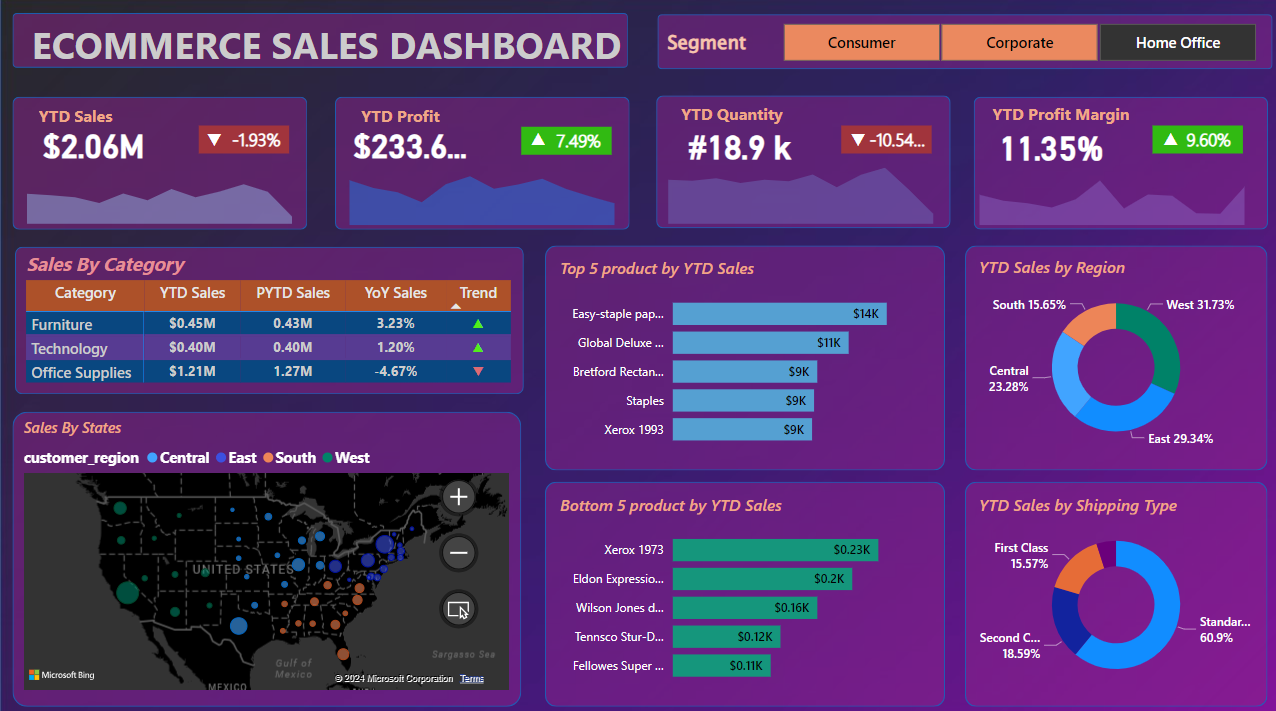

Layout of this report page (visuals, bound fields, positions):
{"tool":"powerbi","page":{"name":"Page 1","canvas":[1280,720],"ordinal":0},"visuals":[{"type":"shape","box":[12.3,15.1,615.6,54.8],"z":0},{"type":"textbox","box":[12.1,15.7,628.3,69.9],"z":1000},{"type":"shape","box":[12.3,98.7,294.8,133],"z":2000},{"type":"card","fields":{"Values":["ecommerce_data.YTD Sales"]},"box":[25.3,126.6,137.5,39.8],"z":3000},{"type":"areaChart","fields":{"Category":["Calendar.Month"],"Y":["Sum(ecommerce_data.sales_per_order)"]},"box":[12.1,155.6,294.3,76],"z":4000},{"type":"shape","box":[199,127.8,90.5,27.7],"z":5000},{"type":"card","fields":{"Values":["ecommerce_data.Sales Icon"]},"box":[190.6,127.8,49.4,32.6],"z":6000},{"type":"card","fields":{"Values":["ecommerce_data.YoY Sales"]},"box":[221.9,129,67.5,26.5],"z":7000},{"type":"textbox","box":[33.8,101.3,94.1,41],"z":8000},{"type":"shape","box":[334.9,99.1,294.8,133],"z":9000},{"type":"card","fields":{"Values":["ecommerce_data.YTD Profit"]},"box":[341.3,126.6,137.5,39.8],"z":10000},{"type":"areaChart","fields":{"Category":["Calendar.Month"],"Y":["Sum(ecommerce_data.profit_per_order)"]},"box":[334.7,155.9,294.3,76],"z":11000},{"type":"shape","box":[521.6,128.2,90.5,27.7],"z":12000},{"type":"card","fields":{"Values":["ecommerce_data.Profit Icon"]},"box":[513.8,126.6,49.4,32.6],"z":13000},{"type":"card","fields":{"Values":["ecommerce_data.YoY Profit"]},"box":[544.5,129.4,67.5,26.5],"z":14000},{"type":"textbox","box":[356.2,101.2,111.2,41.2],"z":15000},{"type":"shape","box":[656.1,97.7,294.3,132.7],"z":16000},{"type":"card","fields":{"Values":["ecommerce_data.YTD Concatenated Qty"]},"box":[671.8,127.8,137.5,39.8],"z":17000},{"type":"areaChart","fields":{"Category":["Calendar.Month"],"Y":["Sum(ecommerce_data.order_quantity)"]},"box":[654.4,155.3,294.3,76],"z":18000},{"type":"shape","box":[841.3,127.6,90.5,27.7],"z":19000},{"type":"card","fields":{"Values":["ecommerce_data.Qty Icon"]},"box":[833.4,127.8,49.4,32.6],"z":20000},{"type":"card","fields":{"Values":["ecommerce_data.YoY Qty"]},"box":[864.2,128.8,67.5,26.5],"z":21000},{"type":"textbox","box":[676.6,100.1,126.6,41],"z":22000},{"type":"shape","box":[973.1,99.2,294.3,132.7],"z":23000},{"type":"card","fields":{"Values":["ecommerce_data.YTD Profit Margin"]},"box":[982.8,128.2,137.5,39.8],"z":24000},{"type":"areaChart","fields":{"Category":["Calendar.Month"],"Y":["ecommerce_data.Profit Margin"]},"box":[965.4,155.7,294.3,76],"z":25000},{"type":"shape","box":[1152.3,127.9,90.5,27.7],"z":26000},{"type":"card","fields":{"Values":["ecommerce_data.Profit Margin Icon"]},"box":[1145.7,126.6,49.4,32.6],"z":27000},{"type":"card","fields":{"Values":["ecommerce_data.YoY Profit Margin"]},"box":[1175.2,129.1,67.5,26.5],"z":28000},{"type":"textbox","box":[987.7,100.1,164,41],"z":29000},{"type":"shape","box":[15,248.5,508.8,147.5],"z":30000},{"type":"pivotTable","title":"Sales By Category","fields":{"Rows":["ecommerce_data.category_name"],"Values":["ecommerce_data.YTD Sales","ecommerce_data.PYTD Sales","ecommerce_data.YoY Sales","ecommerce_data.Sales Icon"]},"box":[21.3,252.2,495,143.8],"z":31000},{"type":"shape","box":[12.5,413.8,508.8,295],"z":32000},{"type":"map","title":"Sales By States","fields":{"Y":["us_state_long_lat_codes.latitude"],"X":["us_state_long_lat_codes.longitude"],"Size":["ecommerce_data.YTD Sales"],"Series":["ecommerce_data.customer_region"]},"box":[18.8,418.8,495,277.5],"z":33000},{"type":"shape","box":[545,247.5,400,225],"z":34000},{"type":"shape","box":[545,483.8,400,225],"z":35000},{"type":"barChart","title":"Top 5 product by YTD  Sales","fields":{"Category":["ecommerce_data.product_name"],"Y":["ecommerce_data.YTD Sales"]},"box":[555,258.8,376.2,201.2],"z":36000},{"type":"barChart","title":"Bottom 5 product by YTD  Sales","fields":{"Category":["ecommerce_data.product_name"],"Y":["ecommerce_data.YTD Sales"]},"box":[555,495,376.2,201.2],"z":37000},{"type":"shape","box":[965,247.5,302.5,225],"z":38000},{"type":"shape","box":[965,483.8,302.5,225],"z":39000},{"type":"donutChart","title":"YTD Sales by Region","fields":{"Category":["ecommerce_data.customer_region"],"Y":["ecommerce_data.YTD Sales"]},"box":[973.8,257.5,285,202.5],"z":40000},{"type":"donutChart","title":"YTD Sales by Shipping Type","fields":{"Y":["ecommerce_data.YTD Sales"],"Category":["ecommerce_data.shipping_type"]},"box":[973.8,495,285,202.5],"z":41000},{"type":"shape","box":[657.5,16.2,615,55],"z":42000},{"type":"slicer","fields":{"Values":["ecommerce_data.customer_segment"]},"box":[757.5,18.8,522.5,51.2],"z":43000},{"type":"textbox","box":[662.5,25,100,41.2],"z":44000}]}

Visuals, with their boxes in screenshot pixels (x1, y1, x2, y2), scaled from the page's 1280x720 canvas onto the 1276x711 screenshot:
shape: pyautogui.locateOnScreen(12, 15, 626, 69)
textbox: pyautogui.locateOnScreen(12, 16, 638, 85)
shape: pyautogui.locateOnScreen(12, 97, 306, 229)
card - ecommerce_data.YTD Sales: pyautogui.locateOnScreen(25, 125, 162, 164)
areaChart - Calendar.Month x Sum(ecommerce_data.sales_per_order): pyautogui.locateOnScreen(12, 154, 305, 229)
shape: pyautogui.locateOnScreen(198, 126, 289, 154)
card - ecommerce_data.Sales Icon: pyautogui.locateOnScreen(190, 126, 239, 158)
card - ecommerce_data.YoY Sales: pyautogui.locateOnScreen(221, 127, 288, 154)
textbox: pyautogui.locateOnScreen(34, 100, 128, 141)
shape: pyautogui.locateOnScreen(334, 98, 628, 229)
card - ecommerce_data.YTD Profit: pyautogui.locateOnScreen(340, 125, 477, 164)
areaChart - Calendar.Month x Sum(ecommerce_data.profit_per_order): pyautogui.locateOnScreen(334, 154, 627, 229)
shape: pyautogui.locateOnScreen(520, 127, 610, 154)
card - ecommerce_data.Profit Icon: pyautogui.locateOnScreen(512, 125, 561, 157)
card - ecommerce_data.YoY Profit: pyautogui.locateOnScreen(543, 128, 610, 154)
textbox: pyautogui.locateOnScreen(355, 100, 466, 141)
shape: pyautogui.locateOnScreen(654, 96, 947, 228)
card - ecommerce_data.YTD Concatenated Qty: pyautogui.locateOnScreen(670, 126, 807, 166)
areaChart - Calendar.Month x Sum(ecommerce_data.order_quantity): pyautogui.locateOnScreen(652, 153, 946, 228)
shape: pyautogui.locateOnScreen(839, 126, 929, 153)
card - ecommerce_data.Qty Icon: pyautogui.locateOnScreen(831, 126, 880, 158)
card - ecommerce_data.YoY Qty: pyautogui.locateOnScreen(861, 127, 929, 153)
textbox: pyautogui.locateOnScreen(674, 99, 801, 139)
shape: pyautogui.locateOnScreen(970, 98, 1263, 229)
card - ecommerce_data.YTD Profit Margin: pyautogui.locateOnScreen(980, 127, 1117, 166)
areaChart - Calendar.Month x ecommerce_data.Profit Margin: pyautogui.locateOnScreen(962, 154, 1256, 229)
shape: pyautogui.locateOnScreen(1149, 126, 1239, 154)
card - ecommerce_data.Profit Margin Icon: pyautogui.locateOnScreen(1142, 125, 1191, 157)
card - ecommerce_data.YoY Profit Margin: pyautogui.locateOnScreen(1172, 127, 1239, 154)
textbox: pyautogui.locateOnScreen(985, 99, 1148, 139)
shape: pyautogui.locateOnScreen(15, 245, 522, 391)
"Sales By Category" pivotTable: pyautogui.locateOnScreen(21, 249, 515, 391)
shape: pyautogui.locateOnScreen(12, 409, 520, 700)
"Sales By States" map: pyautogui.locateOnScreen(19, 414, 512, 688)
shape: pyautogui.locateOnScreen(543, 244, 942, 467)
shape: pyautogui.locateOnScreen(543, 478, 942, 700)
"Top 5 product by YTD  Sales" barChart: pyautogui.locateOnScreen(553, 256, 928, 454)
"Bottom 5 product by YTD  Sales" barChart: pyautogui.locateOnScreen(553, 489, 928, 687)
shape: pyautogui.locateOnScreen(962, 244, 1264, 467)
shape: pyautogui.locateOnScreen(962, 478, 1264, 700)
"YTD Sales by Region" donutChart: pyautogui.locateOnScreen(971, 254, 1255, 454)
"YTD Sales by Shipping Type" donutChart: pyautogui.locateOnScreen(971, 489, 1255, 689)
shape: pyautogui.locateOnScreen(655, 16, 1269, 70)
slicer - ecommerce_data.customer_segment: pyautogui.locateOnScreen(755, 19, 1275, 69)
textbox: pyautogui.locateOnScreen(660, 25, 760, 65)
